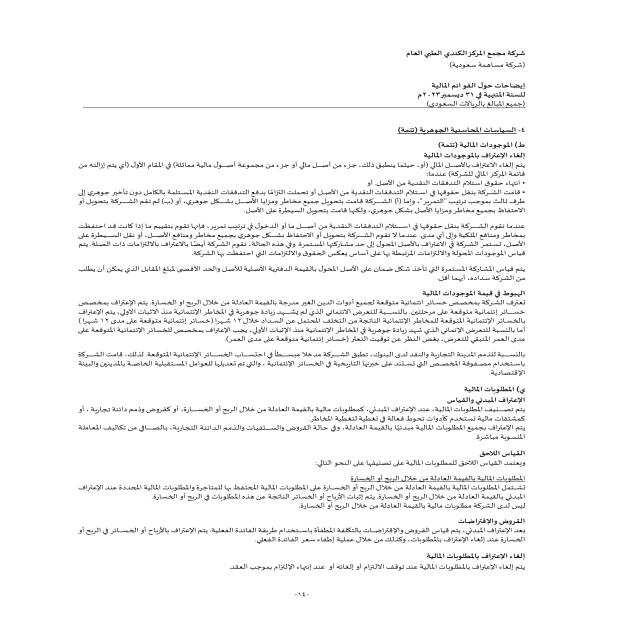notes: (420, 78, 529, 88)
text: (58, 114, 542, 580)
